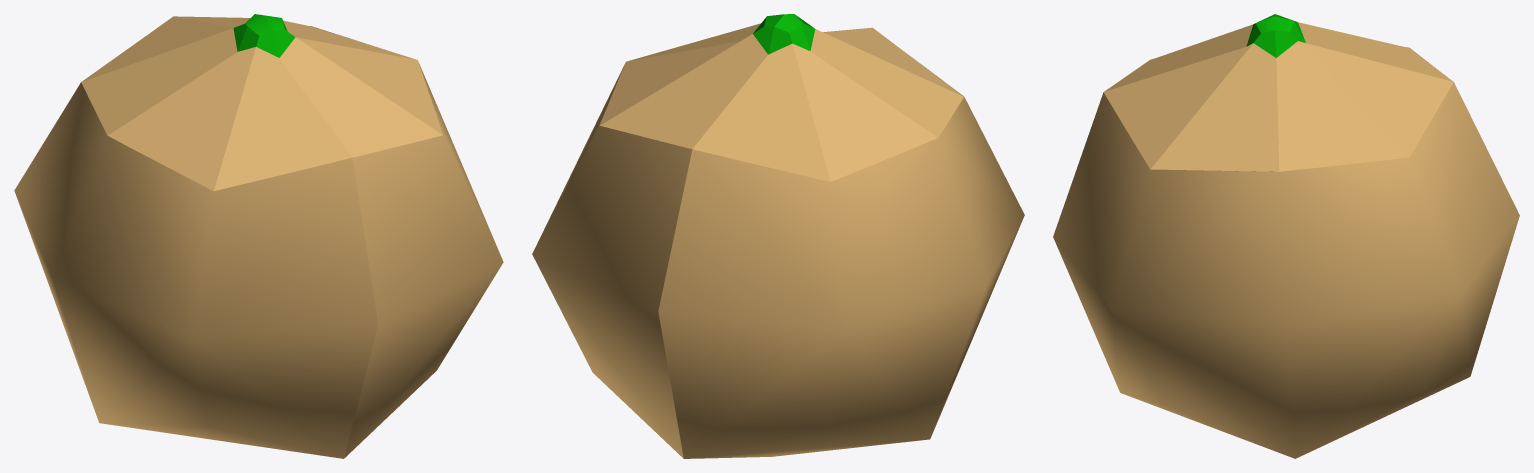
The model's file is spinningorange.fbx.
3 views of the same model, side by side, from view 1: azimuth 30°, elevation 25°; view 2: azimuth 150°, elevation 25°; view 3: azimuth 270°, elevation 25° (orthographic). The views are drawn at different scales.
Parts seen in each view (by area): view 1: polySurface3; view 2: polySurface3; view 3: polySurface3.
Boxes of the visible parts, x1,y1,x2,y2 form: polySurface3: (14, 14, 503, 458); polySurface3: (532, 14, 1024, 458); polySurface3: (1053, 14, 1519, 458).
Bounding box in the file's own units: 2.22 × 2.2 × 2.21.
